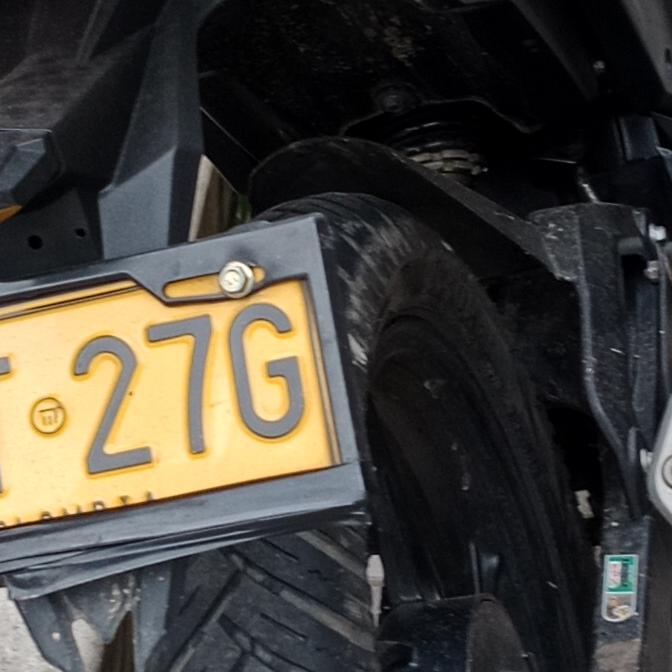plates: (0, 216, 376, 576)
